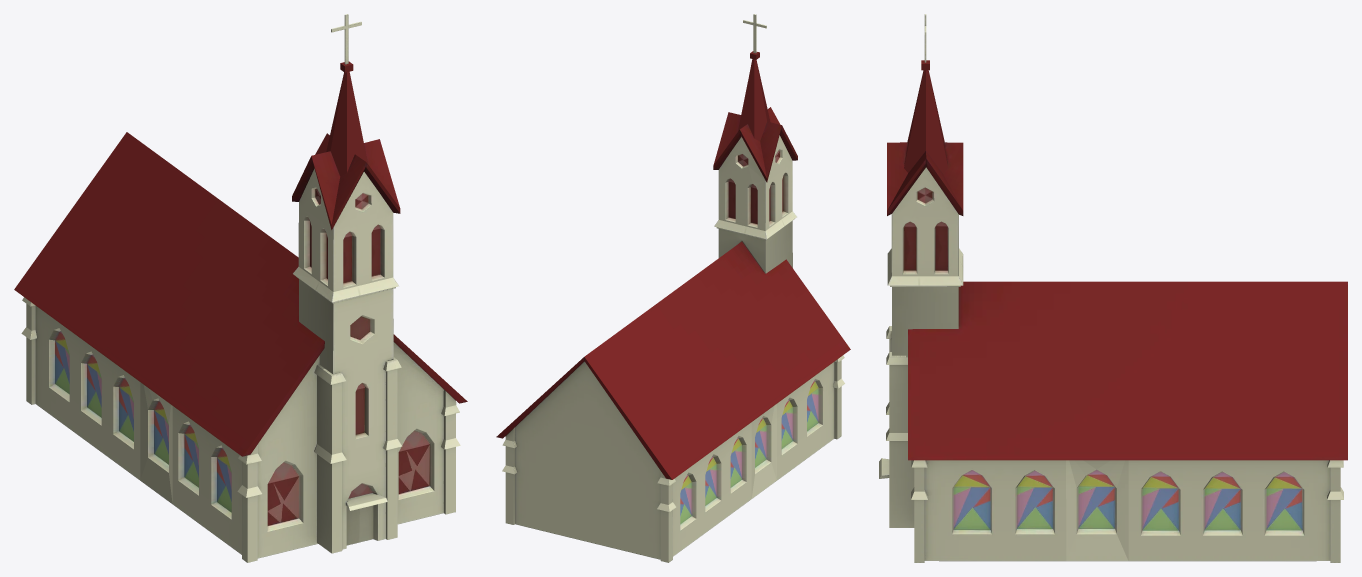
File: church.glb
The picture shows the model from 3 angles, left to right: view 1: azimuth 30°, elevation 25°; view 2: azimuth 150°, elevation 25°; view 3: azimuth 270°, elevation 25°; orthographic projection. The views are drawn at different scales.
Parts seen in each view (by area): view 1: Church_mesh; view 2: Church_mesh; view 3: Church_mesh.
Boxes of the visible parts, left/top/right/bottom form: Church_mesh: left=14, top=14, right=467, bottom=562; Church_mesh: left=496, top=14, right=850, bottom=562; Church_mesh: left=879, top=14, right=1347, bottom=562.
Bounding box in the file's own units: 13.1 × 28.76 × 24.45.
Materials: 1 (1 with a texture image).
